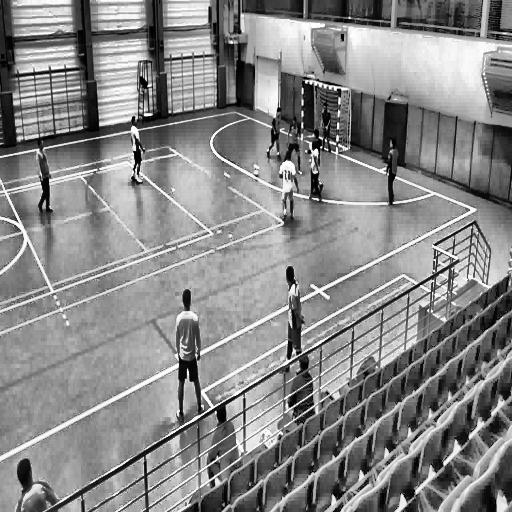ball: (254, 168, 260, 181)
player: (174, 286, 206, 423), (206, 402, 238, 485), (280, 266, 304, 376), (280, 351, 317, 421), (35, 137, 55, 218), (279, 150, 299, 224), (305, 128, 325, 198), (284, 114, 303, 177), (130, 115, 146, 188), (308, 144, 324, 208), (266, 103, 283, 162), (385, 138, 398, 209), (319, 99, 333, 154)
